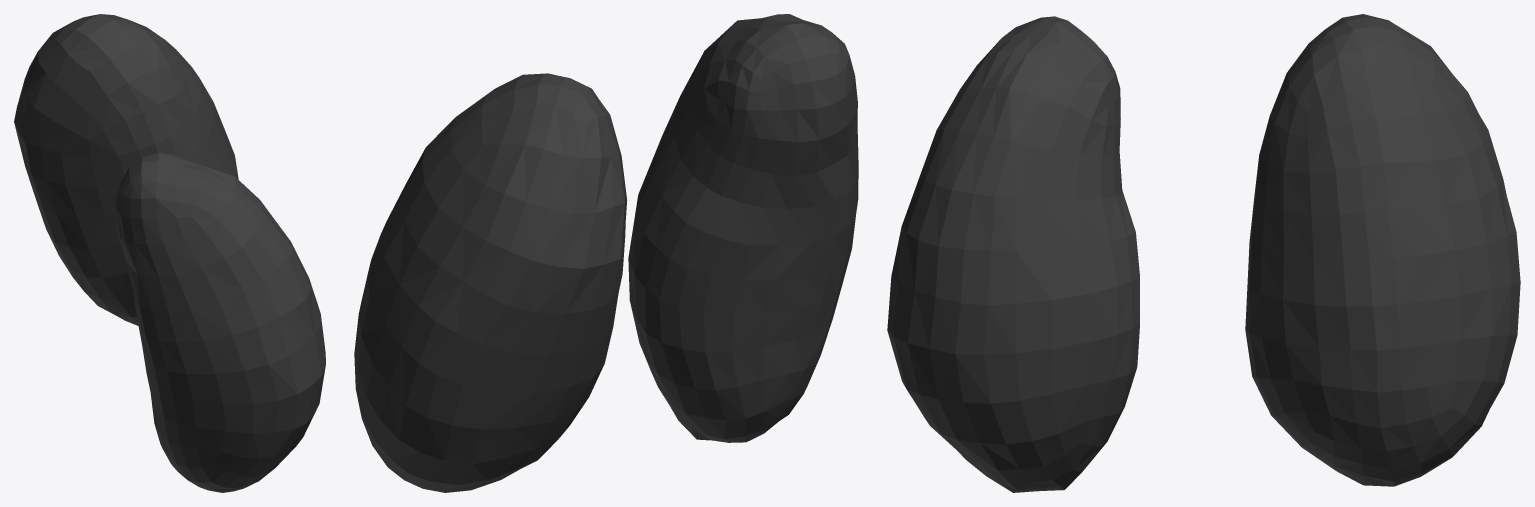
File: proximal_sesamoid_II_L.glb
The picture shows the model from 3 angles, left to right: view 1: azimuth 30°, elevation 25°; view 2: azimuth 150°, elevation 25°; view 3: azimuth 270°, elevation 25°; orthographic projection. The views are drawn at different scales.
Visible parts, largest first — view 1: proximal_sesamoid_II_L; view 2: proximal_sesamoid_II_L; view 3: proximal_sesamoid_II_L.
Part boxes in pixels (<box>): proximal_sesamoid_II_L: <box>14,14,325,492</box>; proximal_sesamoid_II_L: <box>354,14,858,492</box>; proximal_sesamoid_II_L: <box>887,14,1520,492</box>.
Bounding box in the file's own units: 0.00618 × 0.00898 × 0.011.
Materials: 1 (1 with a texture image).
